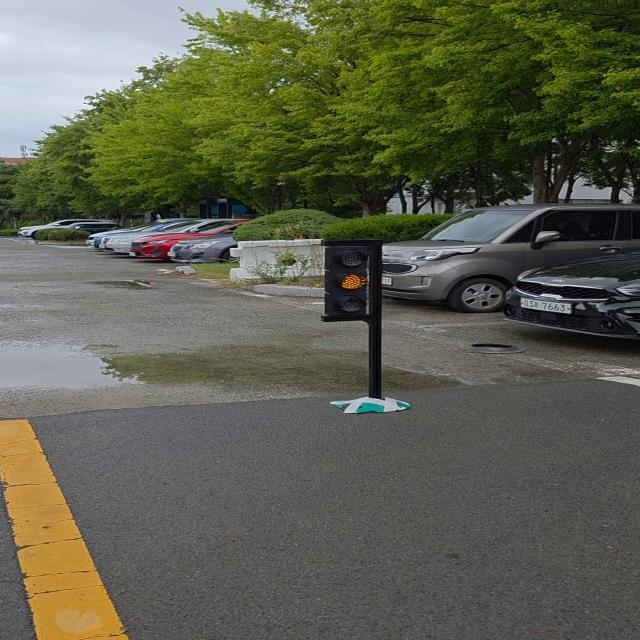yellow: (326, 244, 379, 319)
